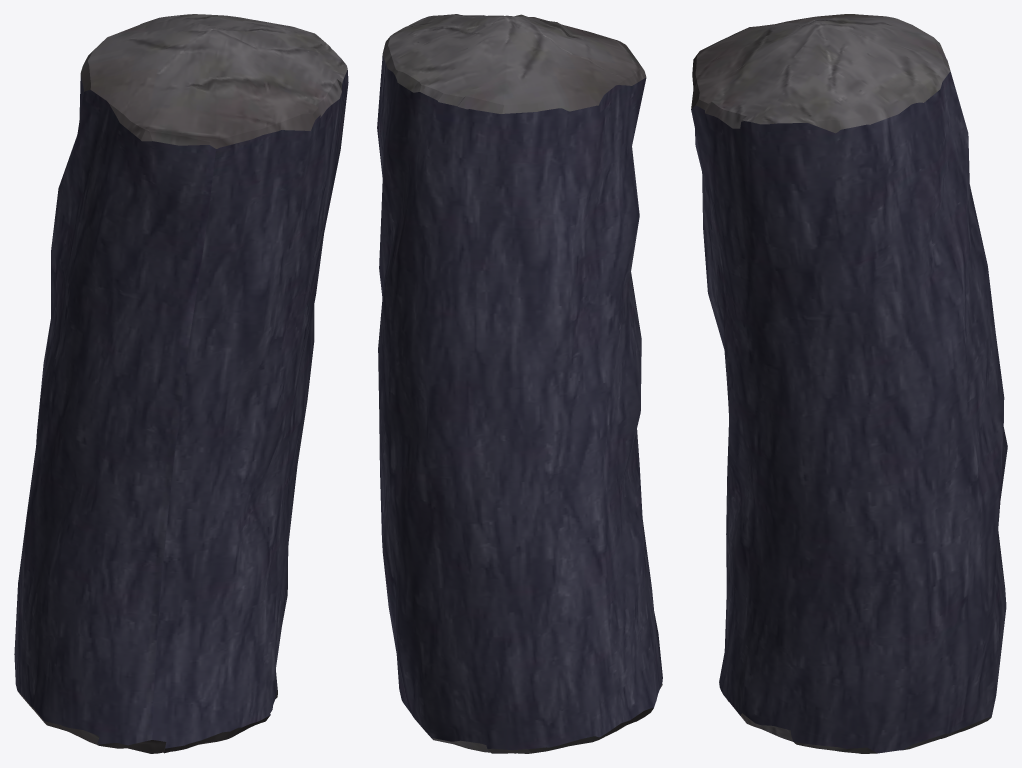
3 views of the same model, side by side, from view 1: azimuth 30°, elevation 25°; view 2: azimuth 150°, elevation 25°; view 3: azimuth 270°, elevation 25° (orthographic). The views are drawn at different scales.
Parts seen in each view (by area): view 1: SM_Willow_02_quarter_02_LOD0; view 2: SM_Willow_02_quarter_02_LOD0; view 3: SM_Willow_02_quarter_02_LOD0.
Boxes of the visible parts, x1,y1,x2,y2 form: SM_Willow_02_quarter_02_LOD0: [14, 14, 348, 753]; SM_Willow_02_quarter_02_LOD0: [377, 14, 662, 753]; SM_Willow_02_quarter_02_LOD0: [691, 14, 1007, 753].
Size of the model in its own units: 1.13 by 2.79 by 1.09.
Materials: 1 (1 with a texture image).
